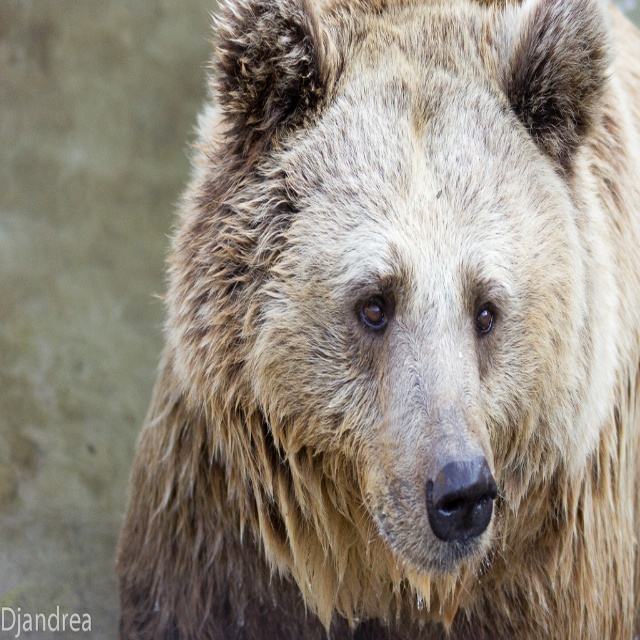Brown bear: (114, 0, 640, 639)
